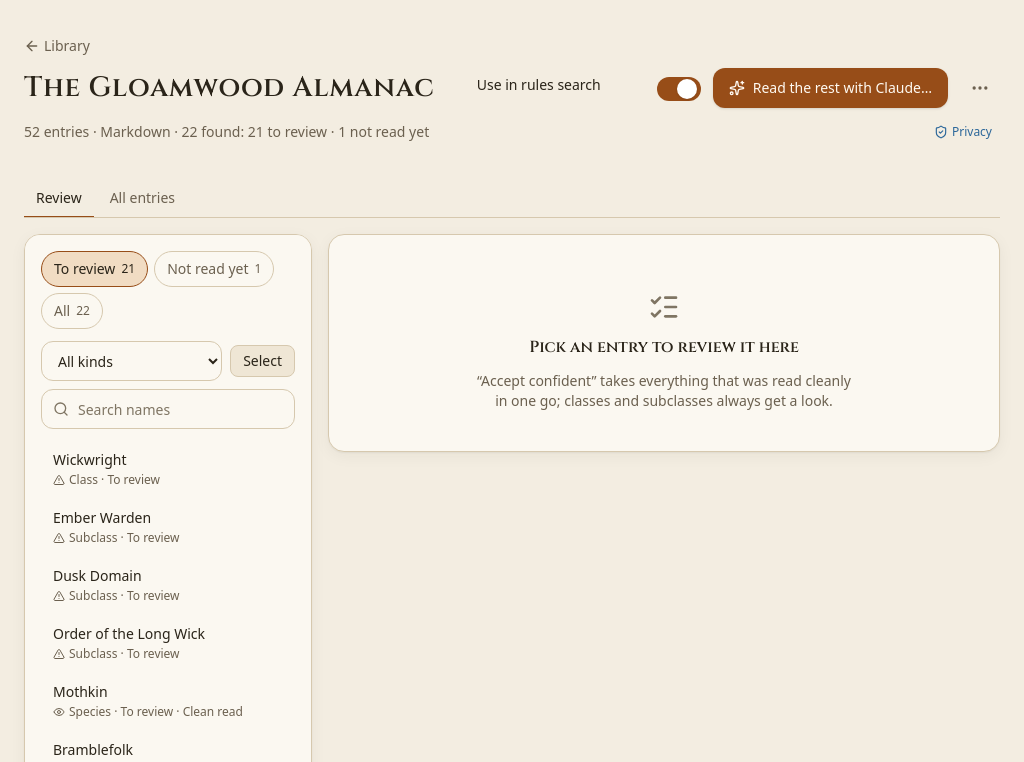
it: the review list › shows filter chips with their counts and filters by them
The image size is (1024, 762).
Expected: the button "All 22" is shown, x1=41 y1=293 x2=103 y2=329
Click the button "Not read yet 1". click: coordinates (214, 269)
box: x1=154 y1=251 x2=274 y2=287
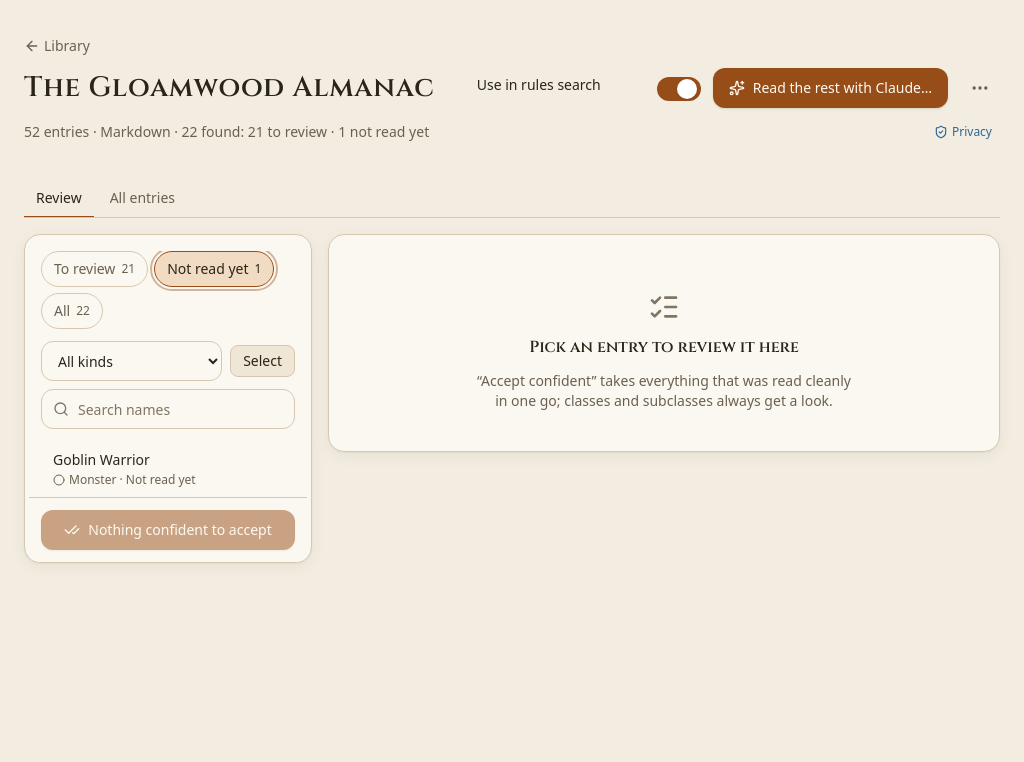
Result: the link "Goblin Warrior Monster · Not read yet" is shown at x1=53 y1=450 x2=196 y2=488
